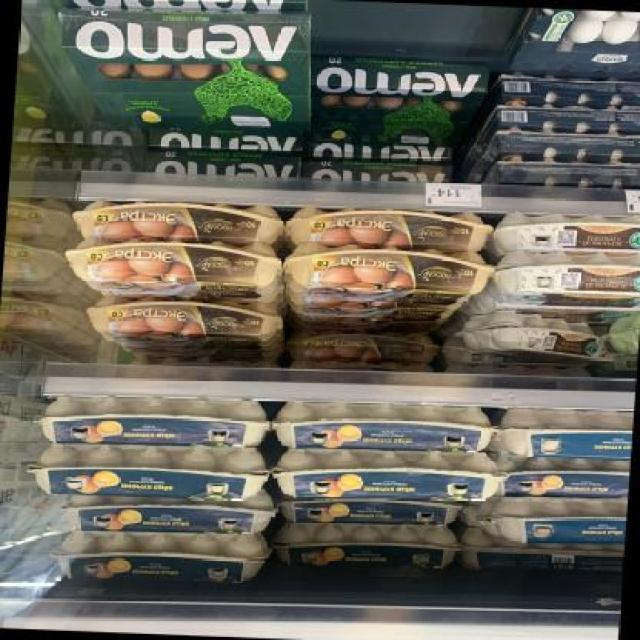egg: (27, 438, 270, 502), (64, 234, 280, 304), (282, 242, 496, 308), (32, 389, 271, 448), (50, 528, 268, 588), (273, 450, 504, 504), (272, 400, 493, 454), (271, 519, 463, 572), (55, 492, 274, 538), (72, 198, 284, 245), (283, 205, 494, 252), (492, 246, 640, 312), (459, 309, 626, 366), (83, 296, 284, 342), (472, 494, 628, 546), (495, 208, 640, 258), (498, 451, 630, 502), (501, 408, 634, 458), (285, 326, 438, 366)
